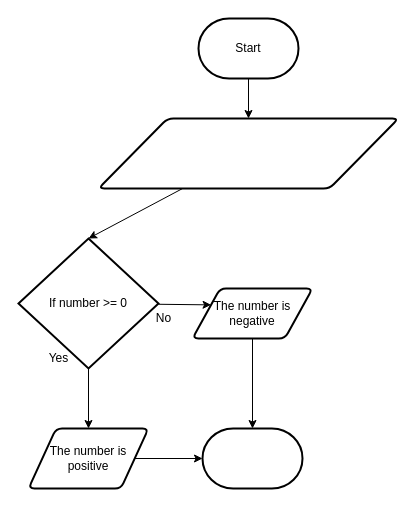
This 416x506 diagram has some shape labels left out. The box of each missing label's shape, as (x1, y1, x2, y2) in pixels:
Input number between -100 to 100: (97, 117, 399, 189)
Stop: (201, 427, 303, 489)
